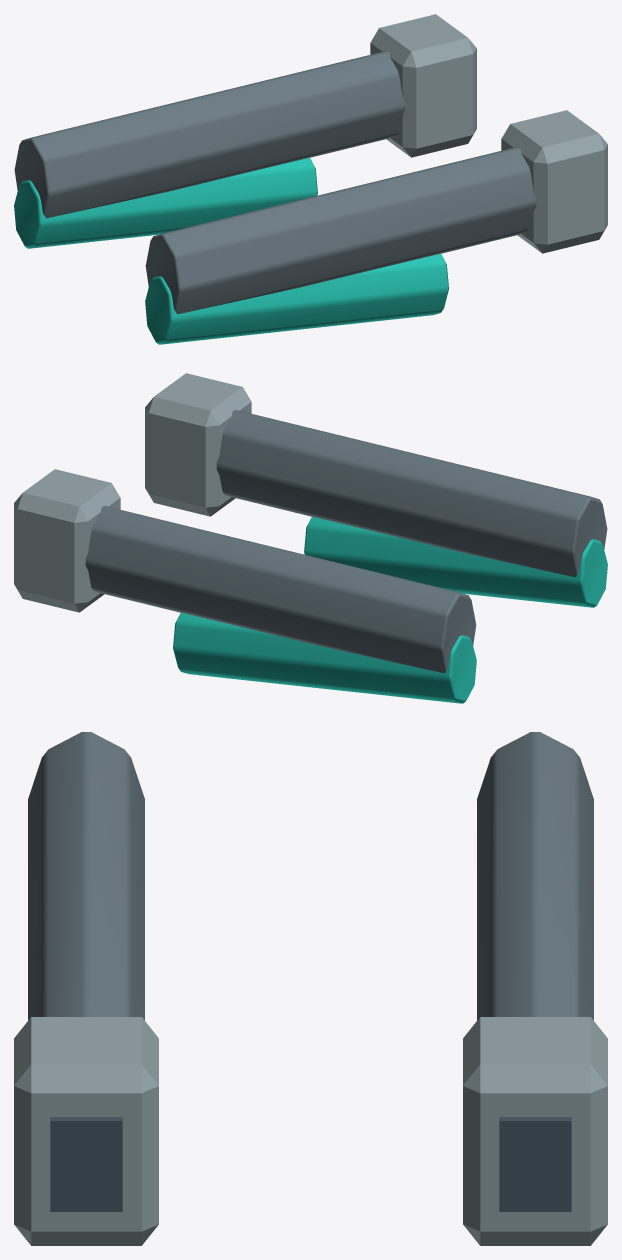
Rendered from SM_Needle_Weapon.fbx.
The picture shows the model from 3 angles, top to bottom: view 1: azimuth 30°, elevation 25°; view 2: azimuth 150°, elevation 25°; view 3: azimuth 270°, elevation 25°; orthographic projection. The views are drawn at different scales.
Visible parts, largest first — view 1: SM_Needle_Weapon; view 2: SM_Needle_Weapon; view 3: SM_Needle_Weapon.
Boxes of the visible parts, <box> form: SM_Needle_Weapon: <box>14,14,607,344</box>; SM_Needle_Weapon: <box>14,373,607,703</box>; SM_Needle_Weapon: <box>14,732,607,1245</box>.
Size of the model in its own units: 25.32 by 17.24 by 8.52.
